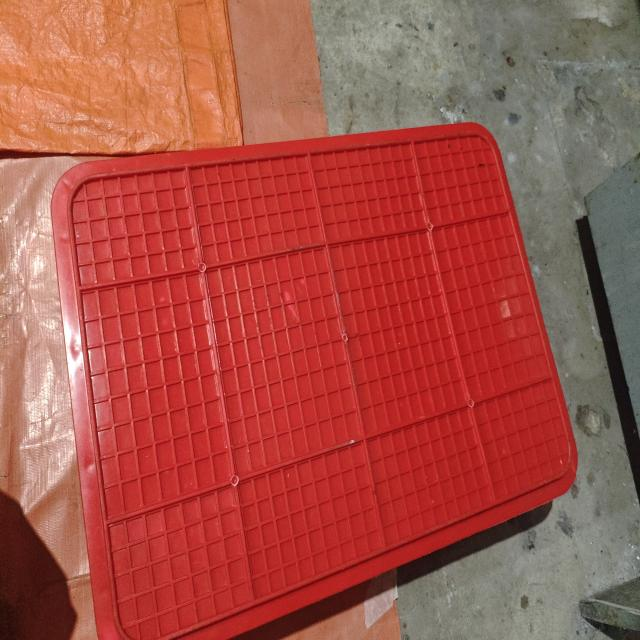red plastic box: (51, 121, 578, 640)
